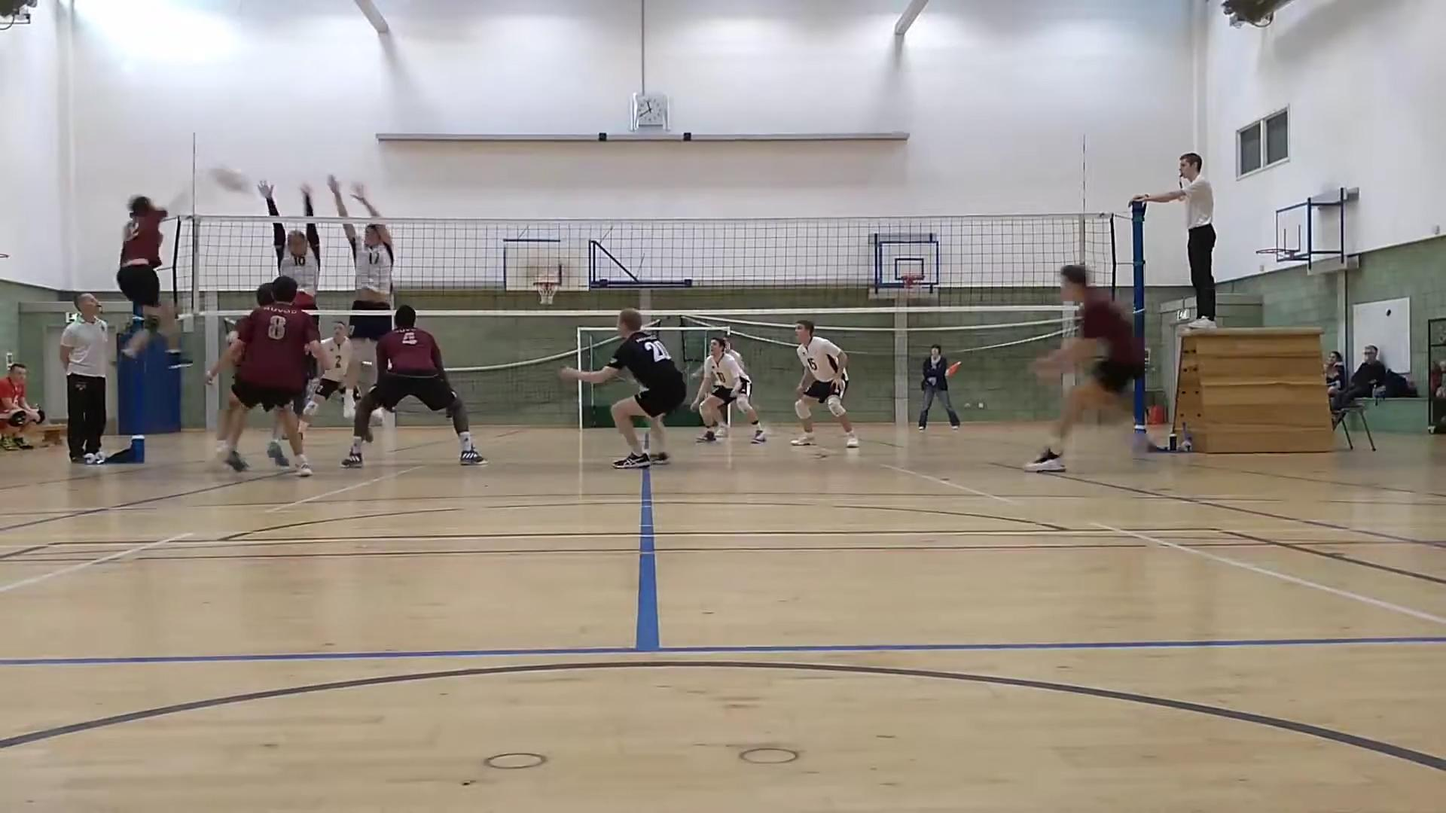Attack: (111, 169, 196, 368)
Block: (325, 172, 405, 425), (252, 169, 322, 348)
Player: (1025, 265, 1143, 471), (343, 305, 486, 467), (221, 276, 331, 476), (560, 309, 686, 468), (791, 320, 858, 447), (691, 336, 765, 443), (300, 321, 349, 431), (721, 336, 765, 443), (217, 407, 228, 454)
ball: (211, 166, 251, 193)
